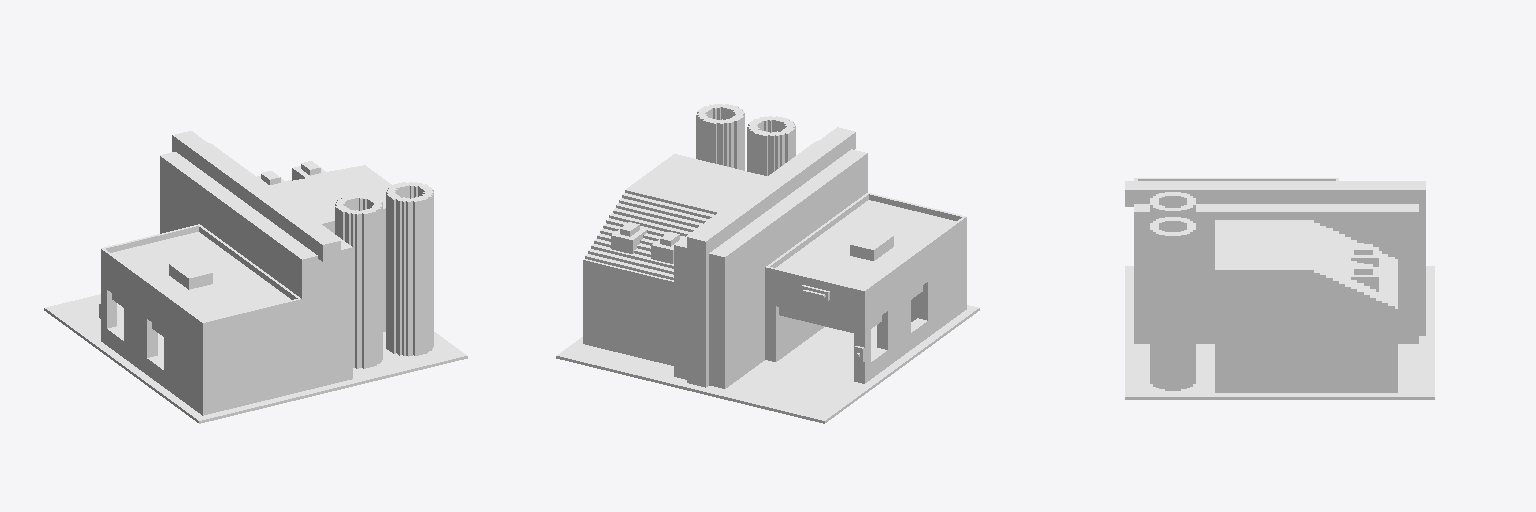
The model's file is zavod.obj.
3 views of the same model, side by side, from view 1: azimuth 30°, elevation 25°; view 2: azimuth 150°, elevation 25°; view 3: azimuth 270°, elevation 25° (orthographic).
Size of the model in its own units: 100 by 56 by 100.